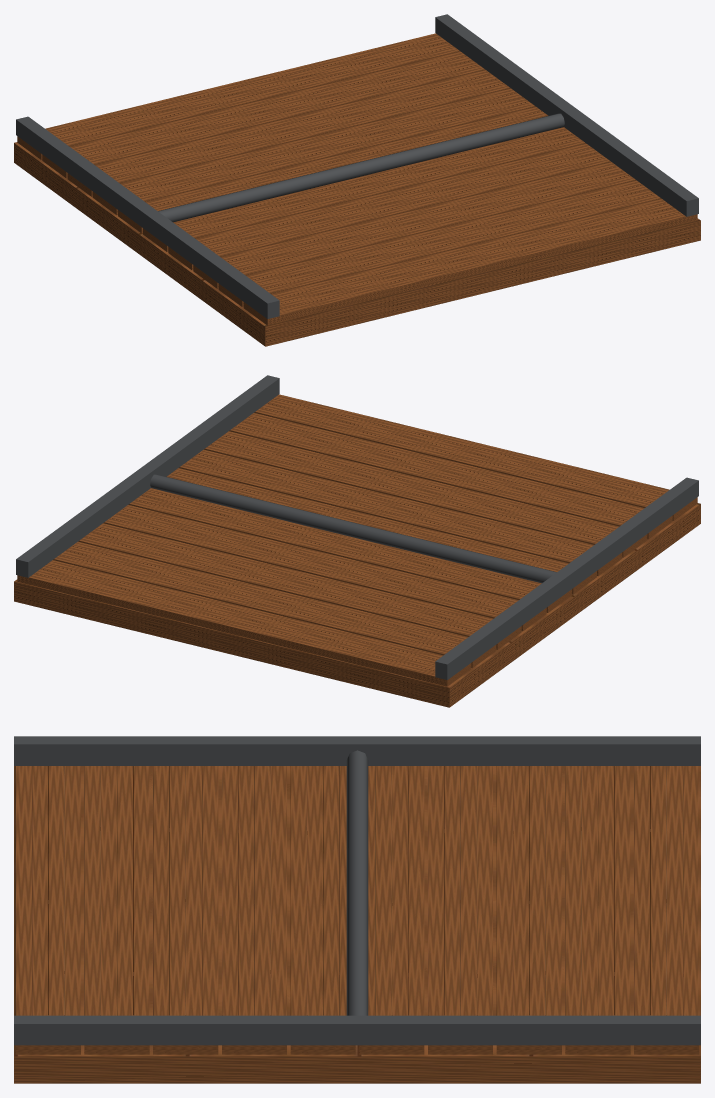
The model's file is wild-west-frontier-town-shed-roof-deck-section-90ed6224__30132.glb.
The picture shows the model from 3 angles, top to bottom: view 1: azimuth 30°, elevation 25°; view 2: azimuth 150°, elevation 25°; view 3: azimuth 270°, elevation 25°; orthographic projection. The views are drawn at different scales.
Visible parts, largest first — view 1: shed-roof-deck-section; view 2: shed-roof-deck-section; view 3: shed-roof-deck-section.
Boxes of the visible parts, x1,y1,x2,y2 form: shed-roof-deck-section: [14, 14, 700, 346]; shed-roof-deck-section: [14, 375, 700, 707]; shed-roof-deck-section: [14, 736, 700, 1083].
Bounding box in the file's own units: 3.2 × 0.3 × 3.2.
2 materials, 1 textured.
